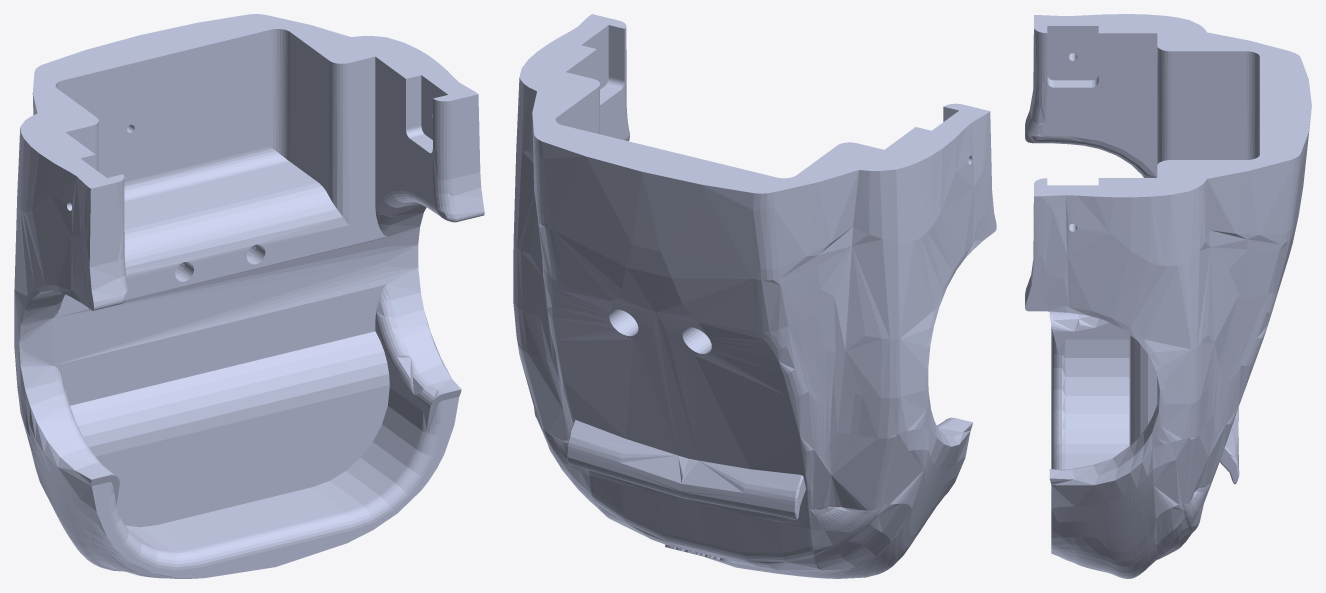
The model's file is porsherear.dae.
The picture shows the model from 3 angles, left to right: view 1: azimuth 30°, elevation 25°; view 2: azimuth 150°, elevation 25°; view 3: azimuth 270°, elevation 25°; orthographic projection. The views are drawn at different scales.
Parts seen in each view (by area): view 1: node0; view 2: node0; view 3: node0.
Boxes of the visible parts, box(x1,y1,x2,y2) form: node0: box(14, 14, 484, 578); node0: box(513, 14, 996, 578); node0: box(1025, 14, 1311, 578).
Bounding box in the file's own units: 0.1286 × 0.0837 × 0.1396.
